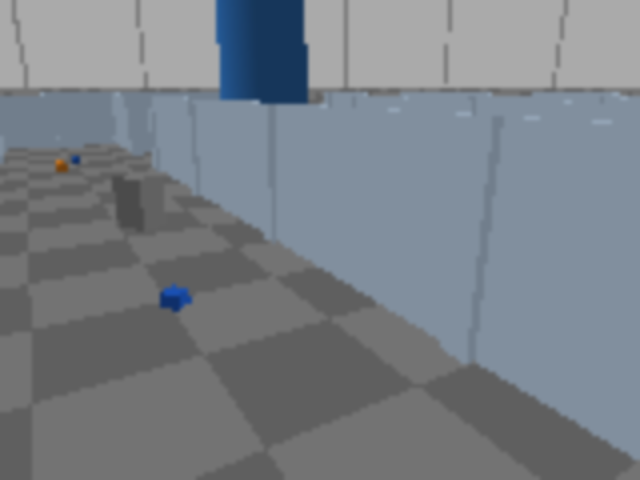obstacle: (112, 172, 167, 231)
puck: (160, 286, 191, 311)
